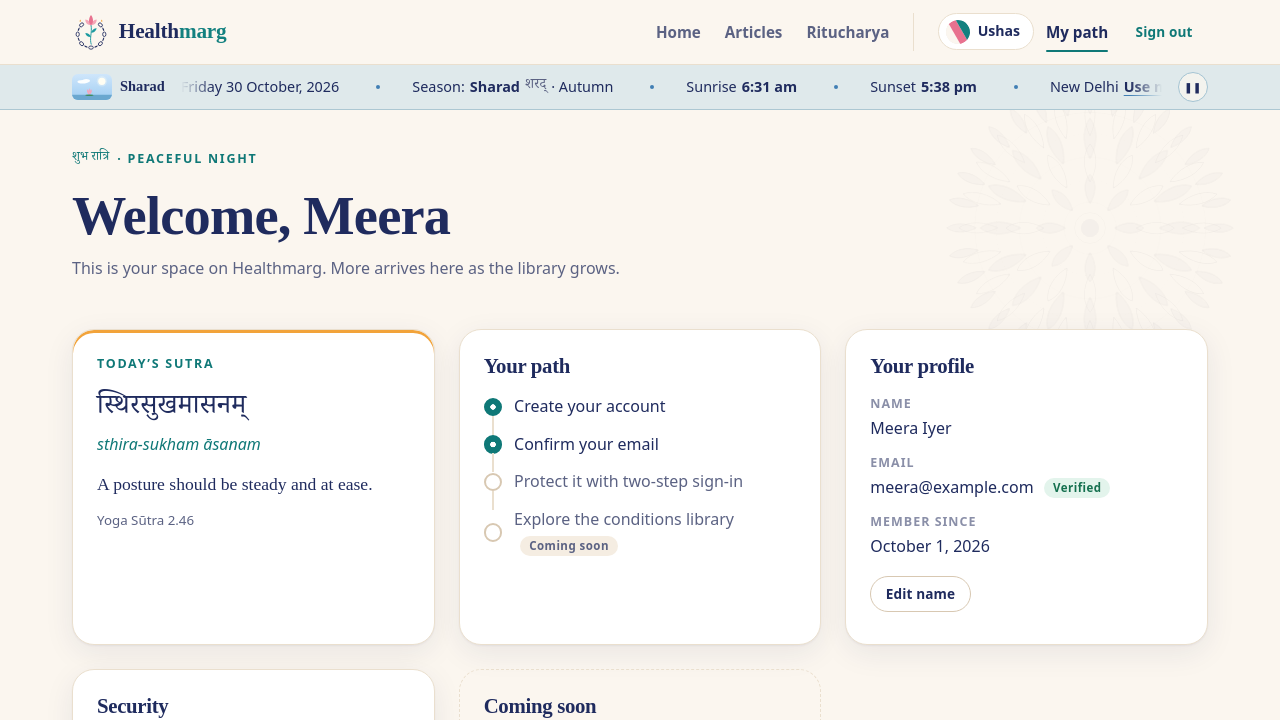
member dashboard › signs out from the header
Click the button "Sign out". click: (1164, 32)
box: x1=1120 y1=14 x2=1208 y2=50
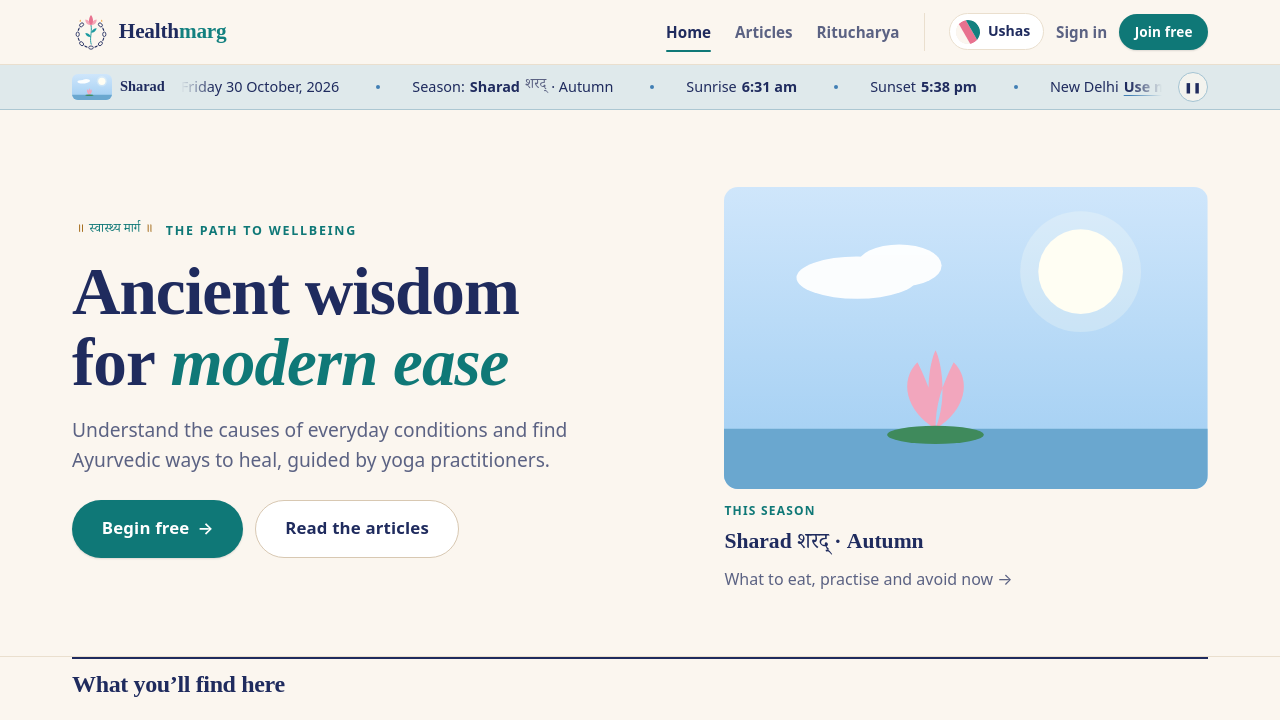
Expected: the link "Join free" is shown, x1=1119 y1=14 x2=1208 y2=50
